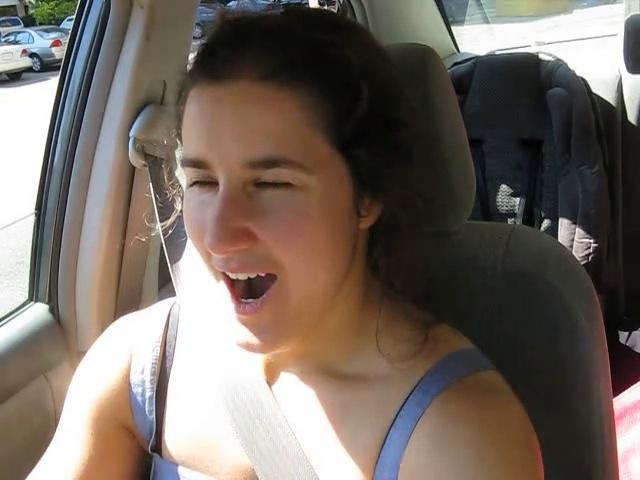close_eyeL: (172, 165, 226, 204)
close_eyeR: (235, 164, 315, 209)
yawn: (199, 255, 300, 324)
